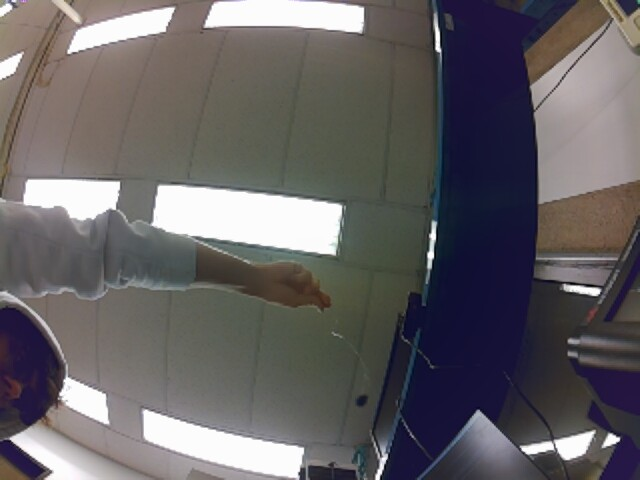mosquito: (352, 388, 371, 412)
